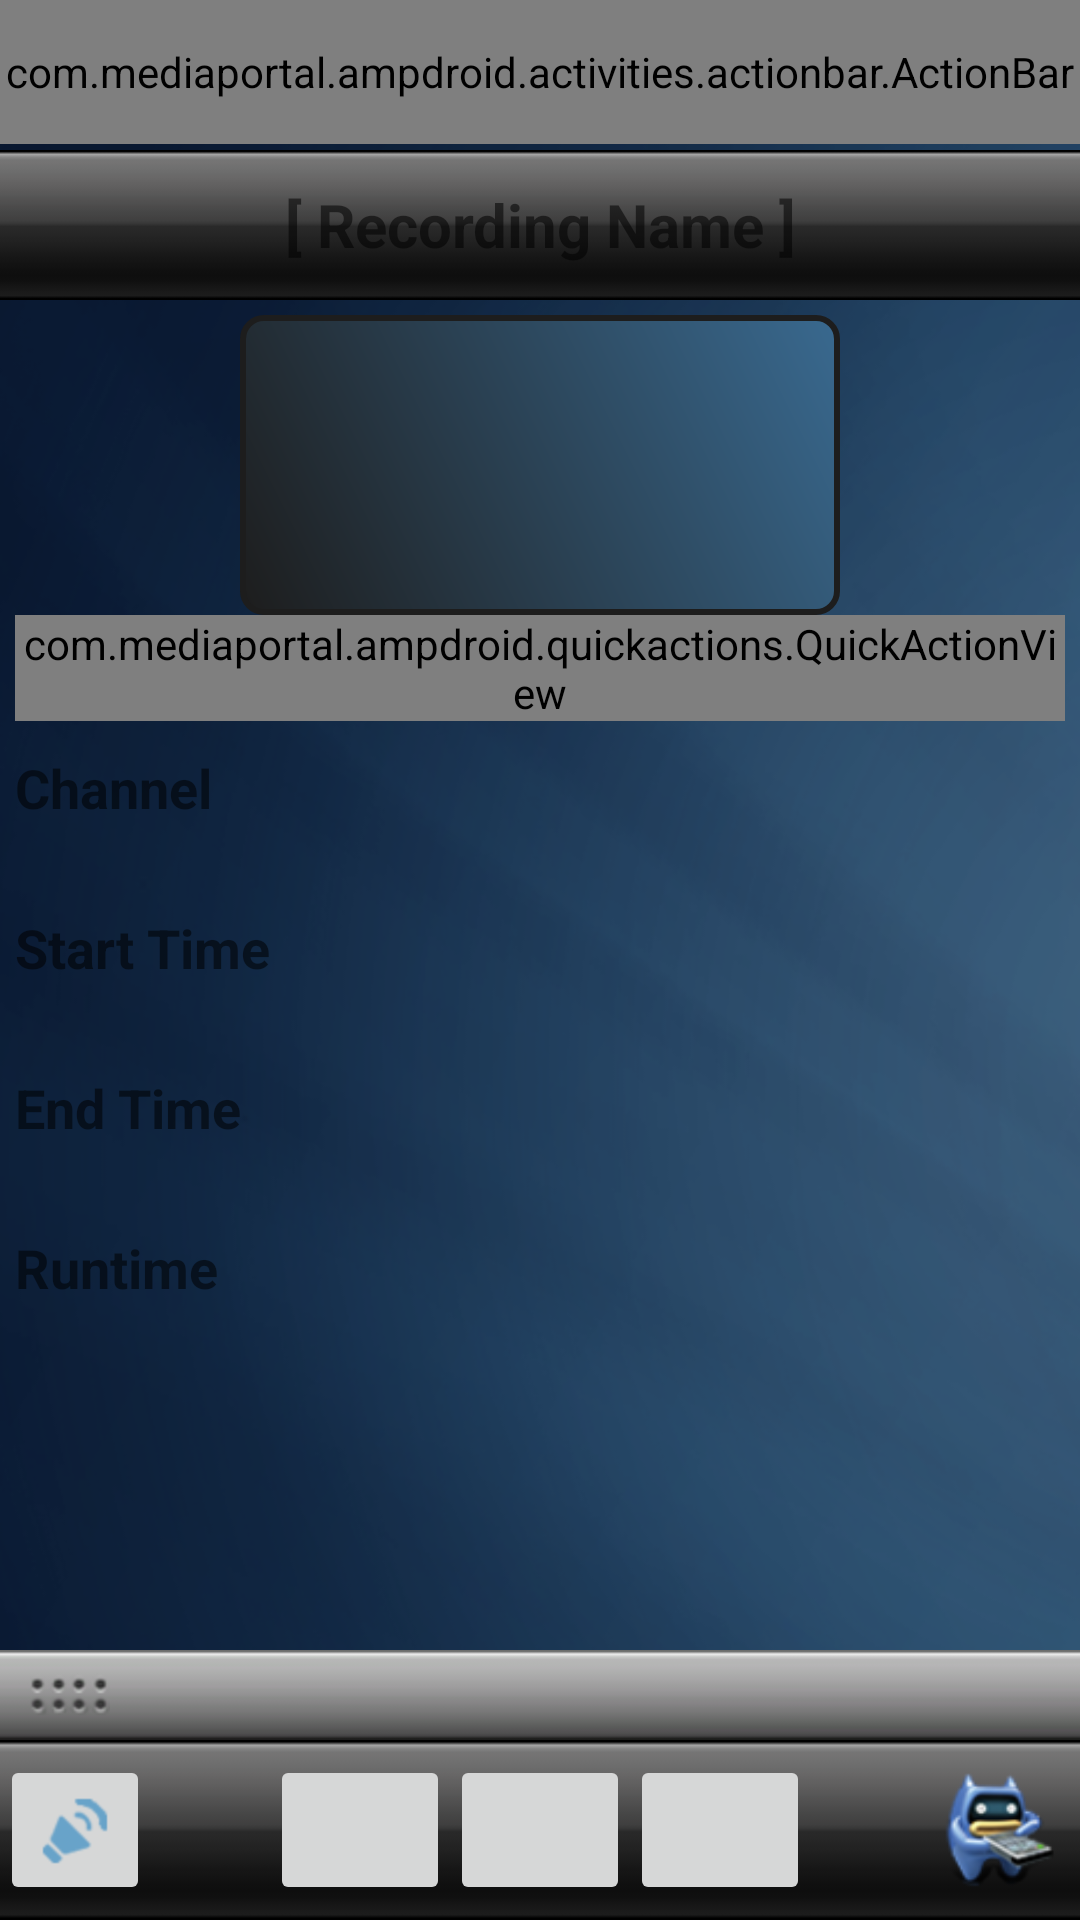

Icon click points for this 1080×1920 phone screenshot, format [x,y]:
slidingdrawer: [70,1695]
volume: [75,1830]
